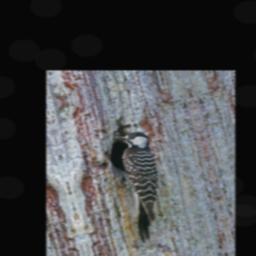Woodpecker: (110, 125, 178, 244)
